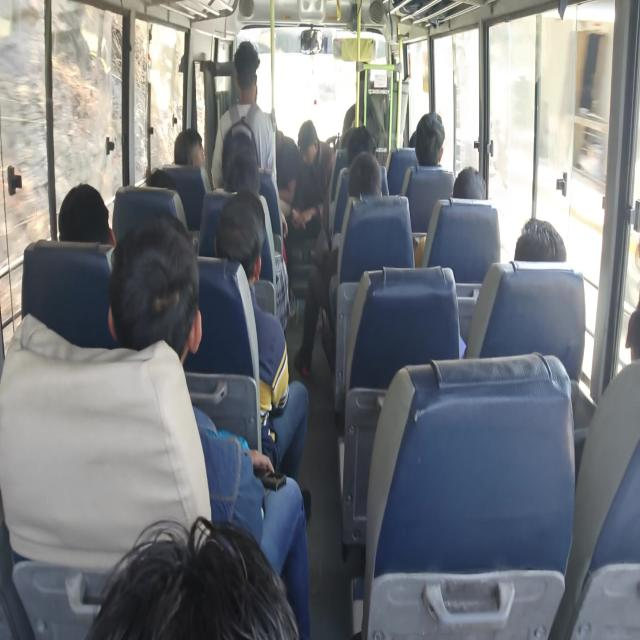person: (108, 212, 310, 637), (214, 195, 312, 522), (86, 515, 300, 639), (293, 150, 383, 378), (211, 40, 288, 242), (461, 217, 567, 356), (414, 166, 486, 266), (400, 110, 454, 234), (290, 119, 335, 241), (58, 182, 115, 246), (173, 128, 211, 192), (514, 217, 566, 262), (415, 111, 445, 167), (347, 150, 382, 198), (344, 125, 376, 165), (452, 166, 486, 199)
